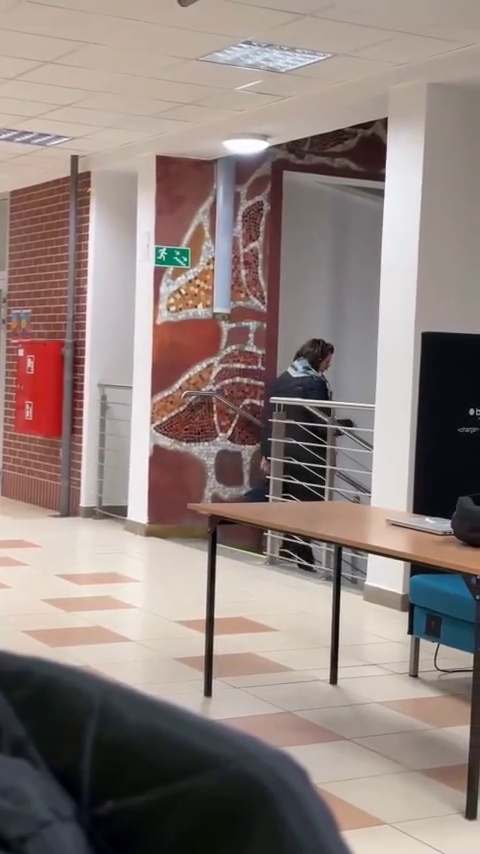no vest: (261, 333, 341, 571)
